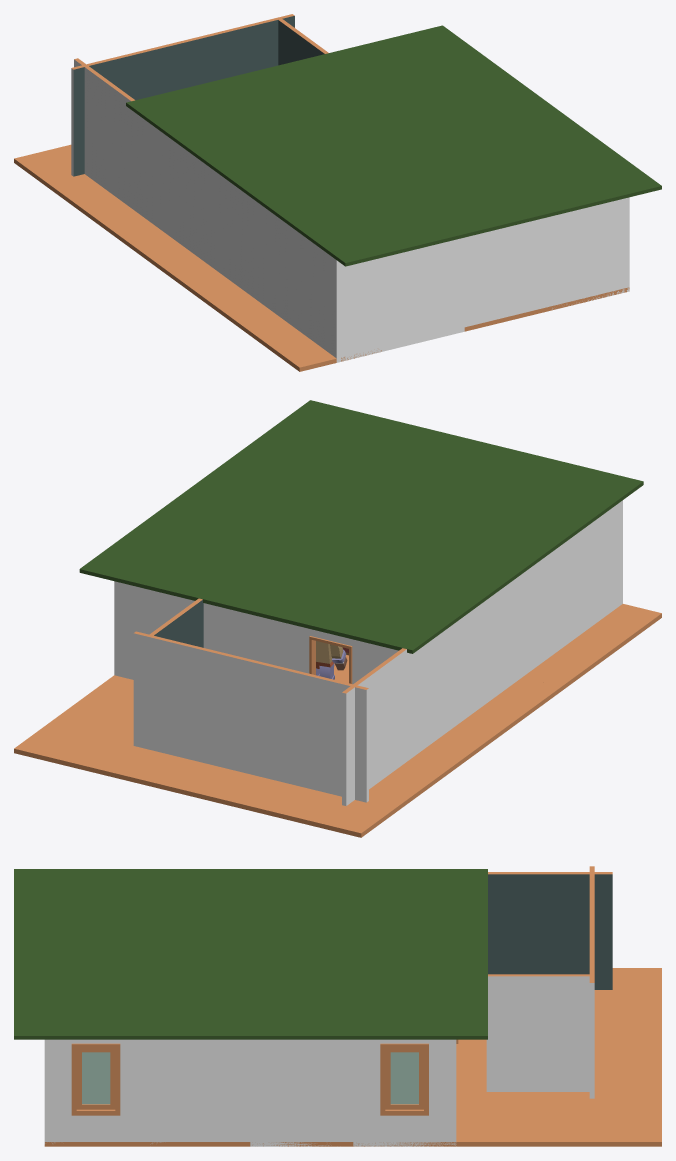
File: birthday.glb
3 views of the same model, one above another, from view 1: azimuth 30°, elevation 25°; view 2: azimuth 150°, elevation 25°; view 3: azimuth 270°, elevation 25° (orthographic). The views are drawn at different scales.
Visible parts, largest first — view 1: Cube, wall.021, wall.019, wall.020, wall.022, wall.023, wall.015, wall.014, wall.016, wall.025, wall.026, wall.027 (+10 smaller); view 2: Cube, wall.025, wall.026, wall.027, wall.015, wall.016, wall.014, wall.023, wall.024, floorFull.019, floorFull.020, wall.018 (+14 smaller); view 3: Cube, wall.028, wall.013, wallWindow, wall.012, wallWindow.001, wall.024, wall.023, floorFull.017, floorFull.019, floorFull.023, floorFull.018 (+7 smaller).
Boxes of the visible parts, x1,y1,x2,y2 form: Cube: (126, 25, 661, 266); wall.021: (382, 237, 464, 351); wall.019: (547, 197, 629, 309); wall.020: (464, 217, 546, 327); wall.022: (341, 248, 423, 361); wall.023: (106, 82, 153, 224); wall.015: (217, 173, 265, 305); wall.014: (170, 138, 217, 270); wall.016: (265, 208, 312, 340); wall.025: (210, 14, 294, 81); wall.026: (144, 31, 224, 97); wall.027: (71, 48, 154, 176); Cube: (79, 400, 643, 653); wall.025: (133, 631, 221, 766); wall.026: (204, 649, 292, 783); wall.027: (279, 667, 368, 802); wall.015: (497, 555, 547, 694); wall.016: (547, 520, 597, 658); wall.014: (448, 592, 497, 729); wall.023: (376, 641, 429, 780); wall.024: (342, 656, 396, 805); floorFull.019: (14, 712, 133, 774); floorFull.020: (274, 787, 411, 837); wall.018: (203, 603, 287, 668); Cube: (14, 869, 487, 1039); wall.028: (486, 974, 589, 1091); wall.013: (250, 1039, 353, 1146); wallWindow: (353, 1039, 456, 1146); wall.012: (147, 1039, 250, 1144); wallWindow.001: (44, 1039, 147, 1143); wall.024: (509, 872, 612, 989); wall.023: (488, 872, 543, 974); floorFull.017: (456, 1098, 558, 1146); floorFull.019: (559, 1098, 661, 1146); floorFull.023: (559, 1055, 661, 1098); floorFull.018: (594, 1011, 661, 1054).
Bounding box in the file's own units: 12.54 × 3.84 × 18.7.
Materials: 14 (9 with a texture image).
